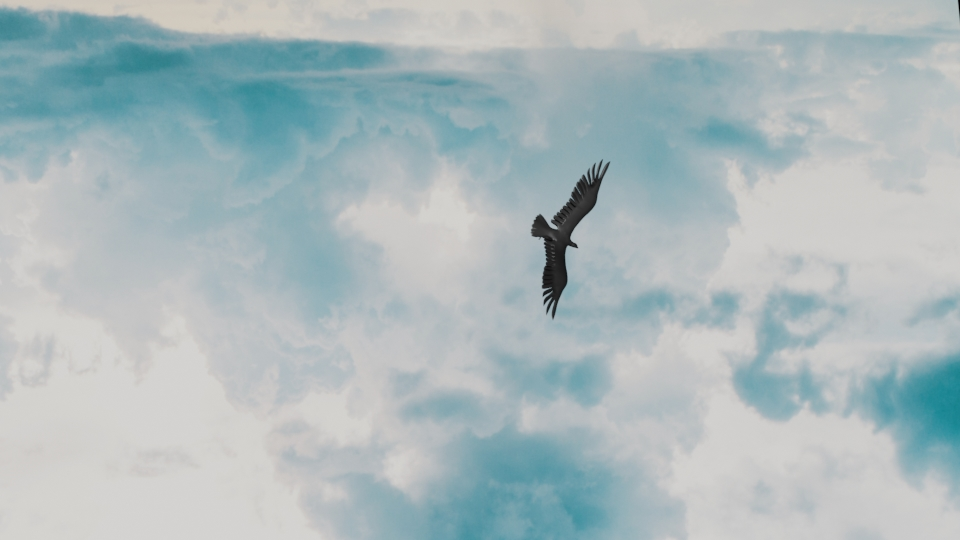bird: (526, 156, 610, 323)
